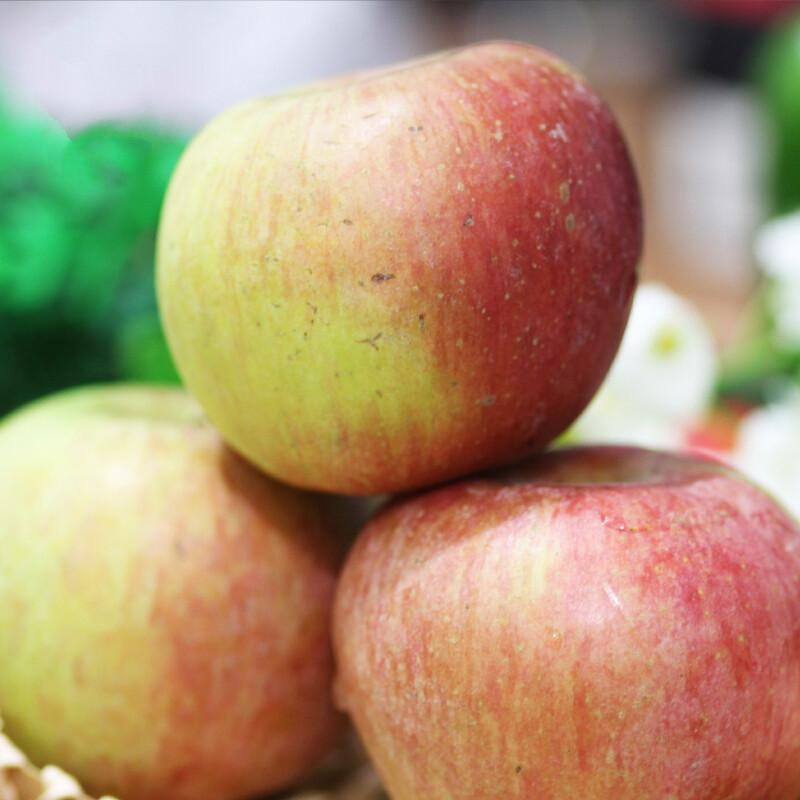apple: (145, 28, 643, 522), (338, 447, 799, 800), (1, 389, 336, 800)
